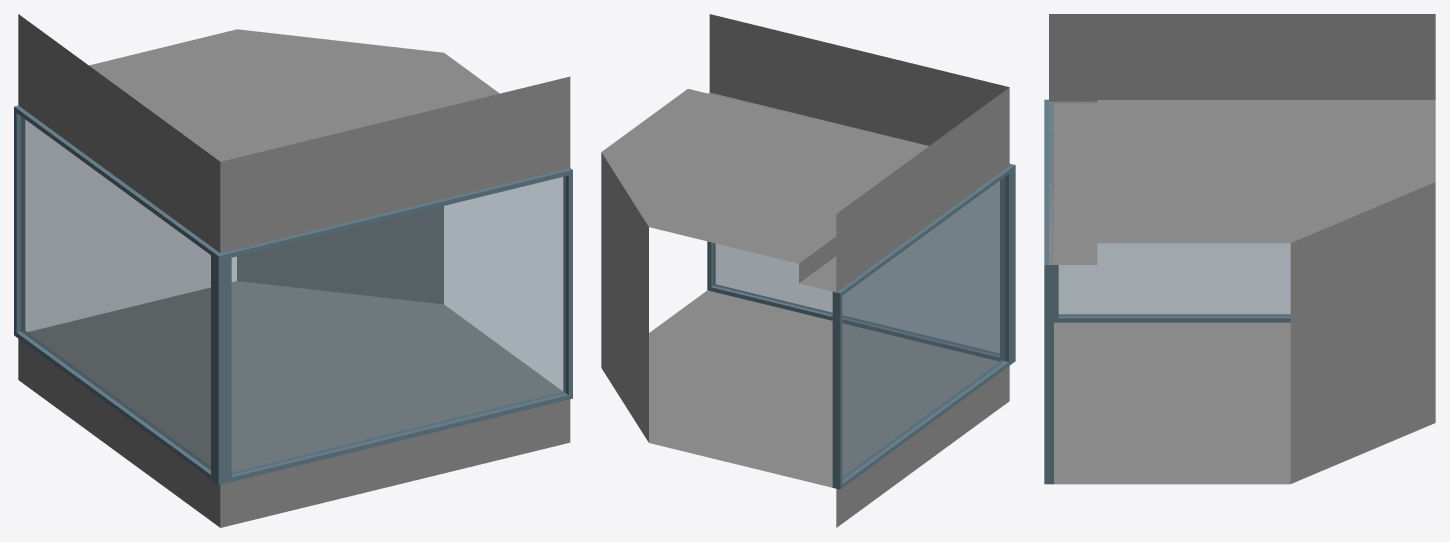
File: officeBuilding01_windowCorner.FBX
3 renders of one model, left to right at view 1: azimuth 30°, elevation 25°; view 2: azimuth 150°, elevation 25°; view 3: azimuth 270°, elevation 25°, orthographic. The views are drawn at different scales.
Visible parts, largest first — view 1: officeBuilding01_windowCorner; view 2: officeBuilding01_windowCorner; view 3: officeBuilding01_windowCorner.
Boxes of the visible parts, left/top/right/bottom form: officeBuilding01_windowCorner: left=14, top=14, right=572, bottom=527; officeBuilding01_windowCorner: left=601, top=14, right=1015, bottom=527; officeBuilding01_windowCorner: left=1044, top=14, right=1435, bottom=484.
Bounding box in the file's own units: 405 × 400 × 405.
